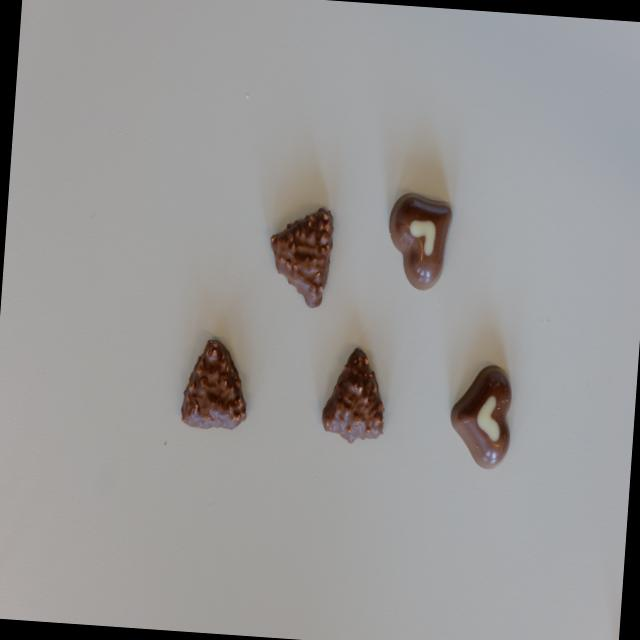Passion_au_lait: (446, 362, 516, 470), (384, 192, 454, 292)
Triangolo: (268, 204, 336, 308), (321, 346, 389, 446), (180, 341, 252, 434)
